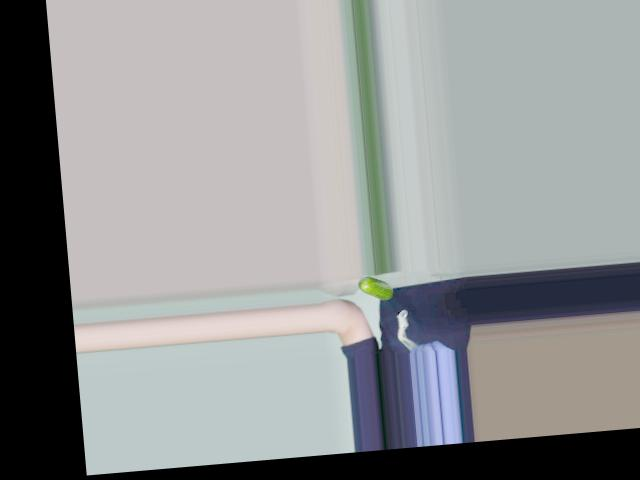cucumber: (357, 274, 393, 302)
